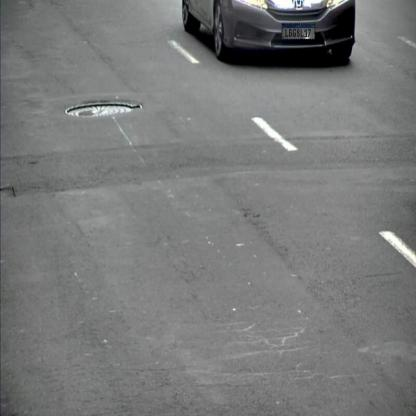PlacaM: (282, 23, 315, 40)
